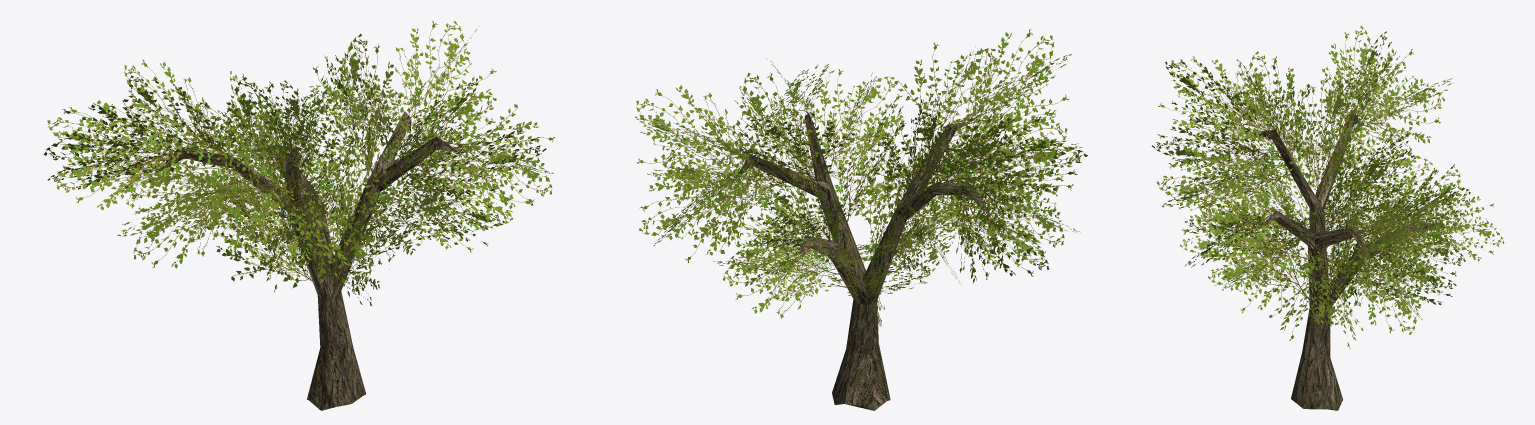
Rendered from swamptree.dae.
3 renders of one model, left to right at view 1: azimuth 30°, elevation 25°; view 2: azimuth 150°, elevation 25°; view 3: azimuth 270°, elevation 25°, orthographic. The views are drawn at different scales.
Parts seen in each view (by area): view 1: defaultobject, swamptree128; view 2: defaultobject, swamptree128; view 3: defaultobject, swamptree128.
Part boxes in pixels (left/top/right/bottom): defaultobject: left=43, top=20, right=555, bottom=305; swamptree128: left=154, top=111, right=458, bottom=410; defaultobject: left=635, top=29, right=1087, bottom=345; swamptree128: left=730, top=113, right=989, bottom=410; defaultobject: left=1151, top=26, right=1504, bottom=349; swamptree128: left=1252, top=113, right=1437, bottom=410.
Size of what is drawn, in the model's own units: 21.92 by 15.77 by 16.69.
2 materials, 2 textured.
